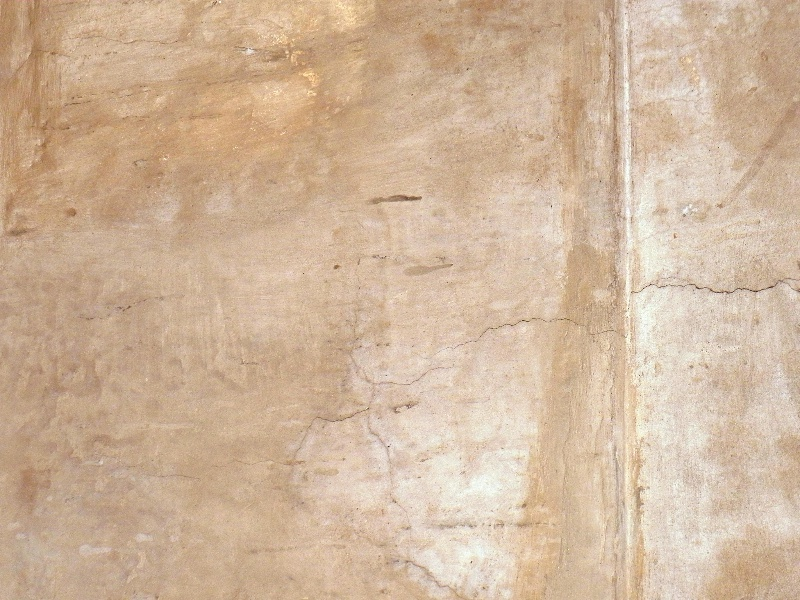Crack: (636, 270, 800, 306), (467, 312, 563, 347)
